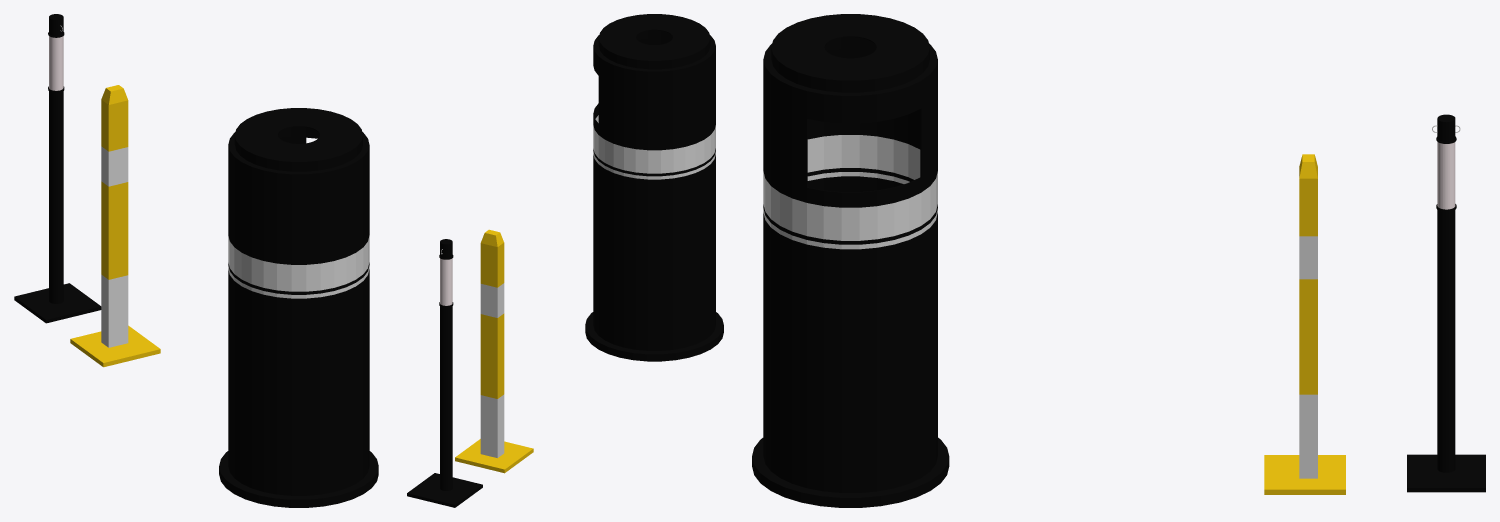
File: paaltjes.gltf
3 views of the same model, side by side, from view 1: azimuth 30°, elevation 25°; view 2: azimuth 150°, elevation 25°; view 3: azimuth 270°, elevation 25° (orthographic). The views are drawn at different scales.
Parts seen in each view (by area): view 1: Cylinder.014, Cube.013, Cylinder.015, Cube.015; view 2: Cylinder.014, Cube.013, Cylinder.015, Cube.015; view 3: Cylinder.014, Cube.013, Cylinder.015, Cube.015.
Part boxes in pixels (x1,y1,x2,y2): Cylinder.014: (219,108,378,507); Cube.013: (70,85,160,367); Cylinder.015: (48,14,64,303); Cube.015: (14,283,101,323); Cylinder.014: (585,14,723,361); Cube.013: (455,229,533,473); Cylinder.015: (439,239,453,490); Cube.015: (407,473,482,507); Cylinder.014: (752,14,949,507); Cube.013: (1264,154,1345,494); Cylinder.015: (1436,114,1456,472); Cube.015: (1407,454,1485,492).
Bounding box in the file's own units: 0.2911 × 0.7037 × 1.09.
Materials: 9 (3 with a texture image).
